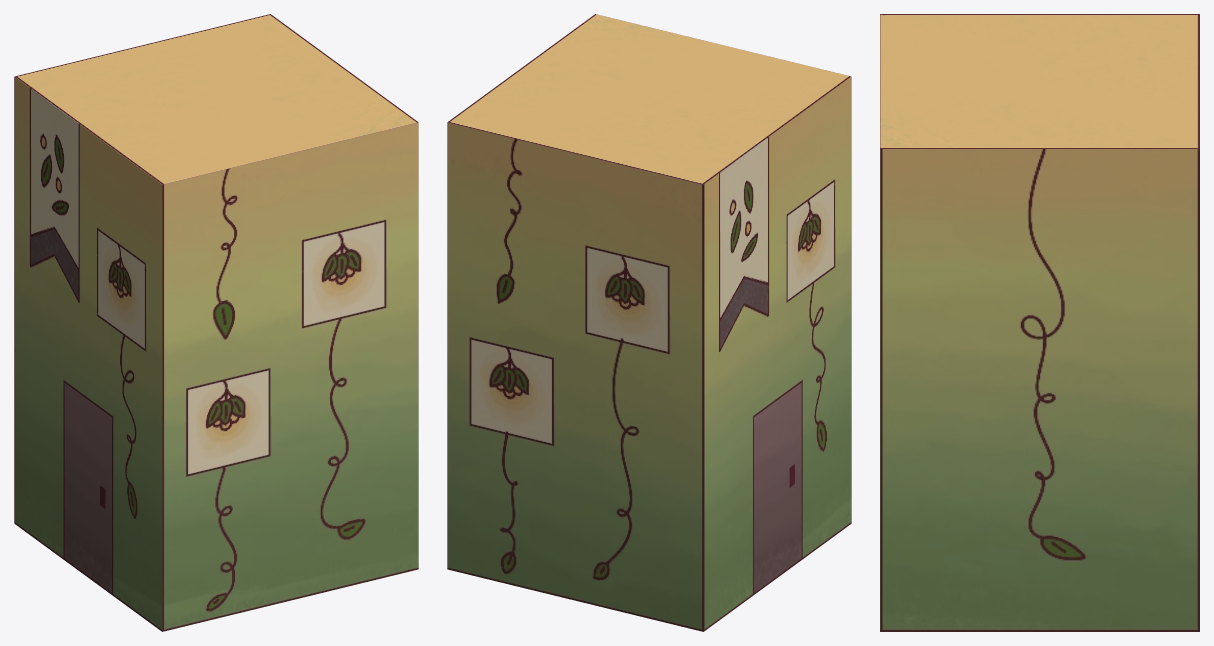
File: dream_building4.fbx
3 views of the same model, side by side, from view 1: azimuth 30°, elevation 25°; view 2: azimuth 150°, elevation 25°; view 3: azimuth 270°, elevation 25° (orthographic). The views are drawn at different scales.
Visible parts, largest first — view 1: Box001; view 2: Box001; view 3: Box001.
Part boxes in pixels (x1,y1,x2,y2): Box001: (14,14,418,631); Box001: (447,14,851,631); Box001: (880,14,1199,631).
Bounding box in the file's own units: 360 × 600 × 360.
Materials: 1 (1 with a texture image).
